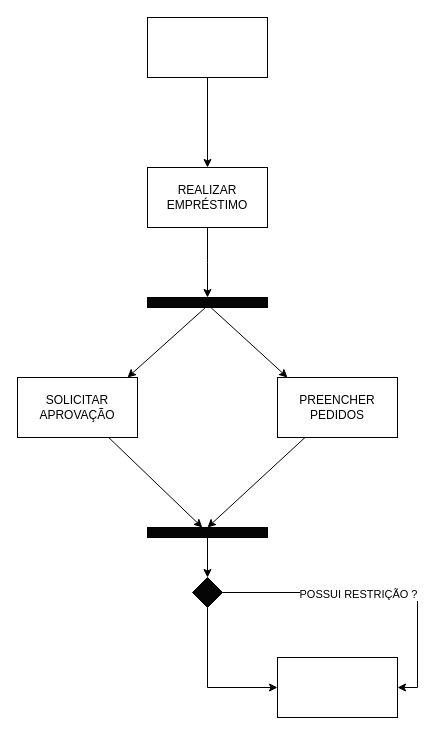
Some shapes in this 443 by 735 pixel diagram are drawn without their labels. Here are the shapes that lost their labels. From the top down, the box of each, then its label:
(146, 16, 268, 78): CLIENTE ESTIPULA VALOR
(276, 656, 398, 718): ENTREGA AO CLIENTE
